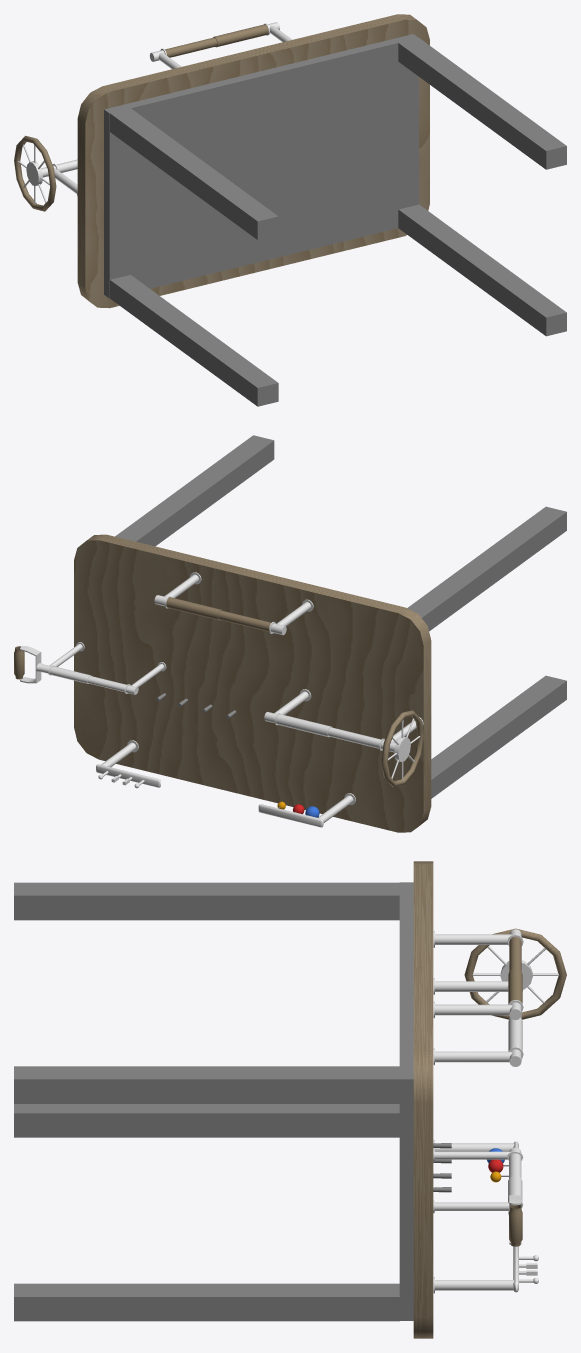
3 renders of one model, top to bottom at view 1: azimuth 30°, elevation 25°; view 2: azimuth 150°, elevation 25°; view 3: azimuth 270°, elevation 25°, orthographic. The views are drawn at different scales.
Visible parts, largest first — view 1: Cube.003; view 2: Cube.003; view 3: Cube.003.
Boxes of the visible parts, <box> form: Cube.003: <box>14,14,566,406</box>; Cube.003: <box>14,435,566,832</box>; Cube.003: <box>14,861,566,1338</box>.
Size of the model in its own units: 106 by 57 by 101.
